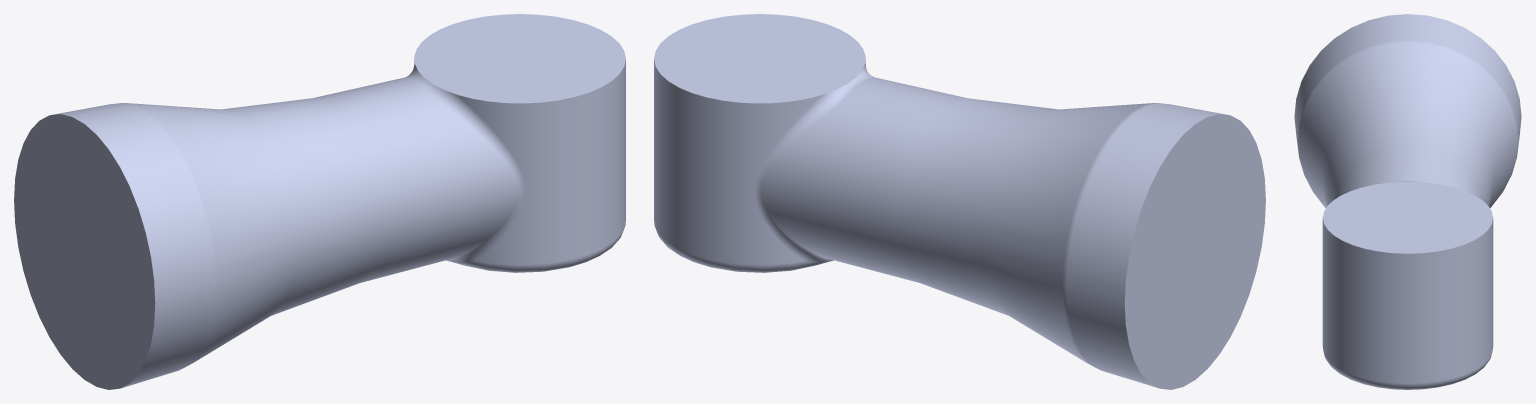
3 renders of one model, left to right at view 1: azimuth 30°, elevation 25°; view 2: azimuth 150°, elevation 25°; view 3: azimuth 270°, elevation 25°, orthographic. The views are drawn at different scales.
Parts seen in each view (by area): view 1: Link-5; view 2: Link-5; view 3: Link-5.
Part boxes in pixels (x1,y1,x2,y2): Link-5: (14,14,625,389); Link-5: (654,14,1265,389); Link-5: (1294,14,1521,389).
Bounding box in the file's own units: 0.2155 × 0.1 × 0.1.
